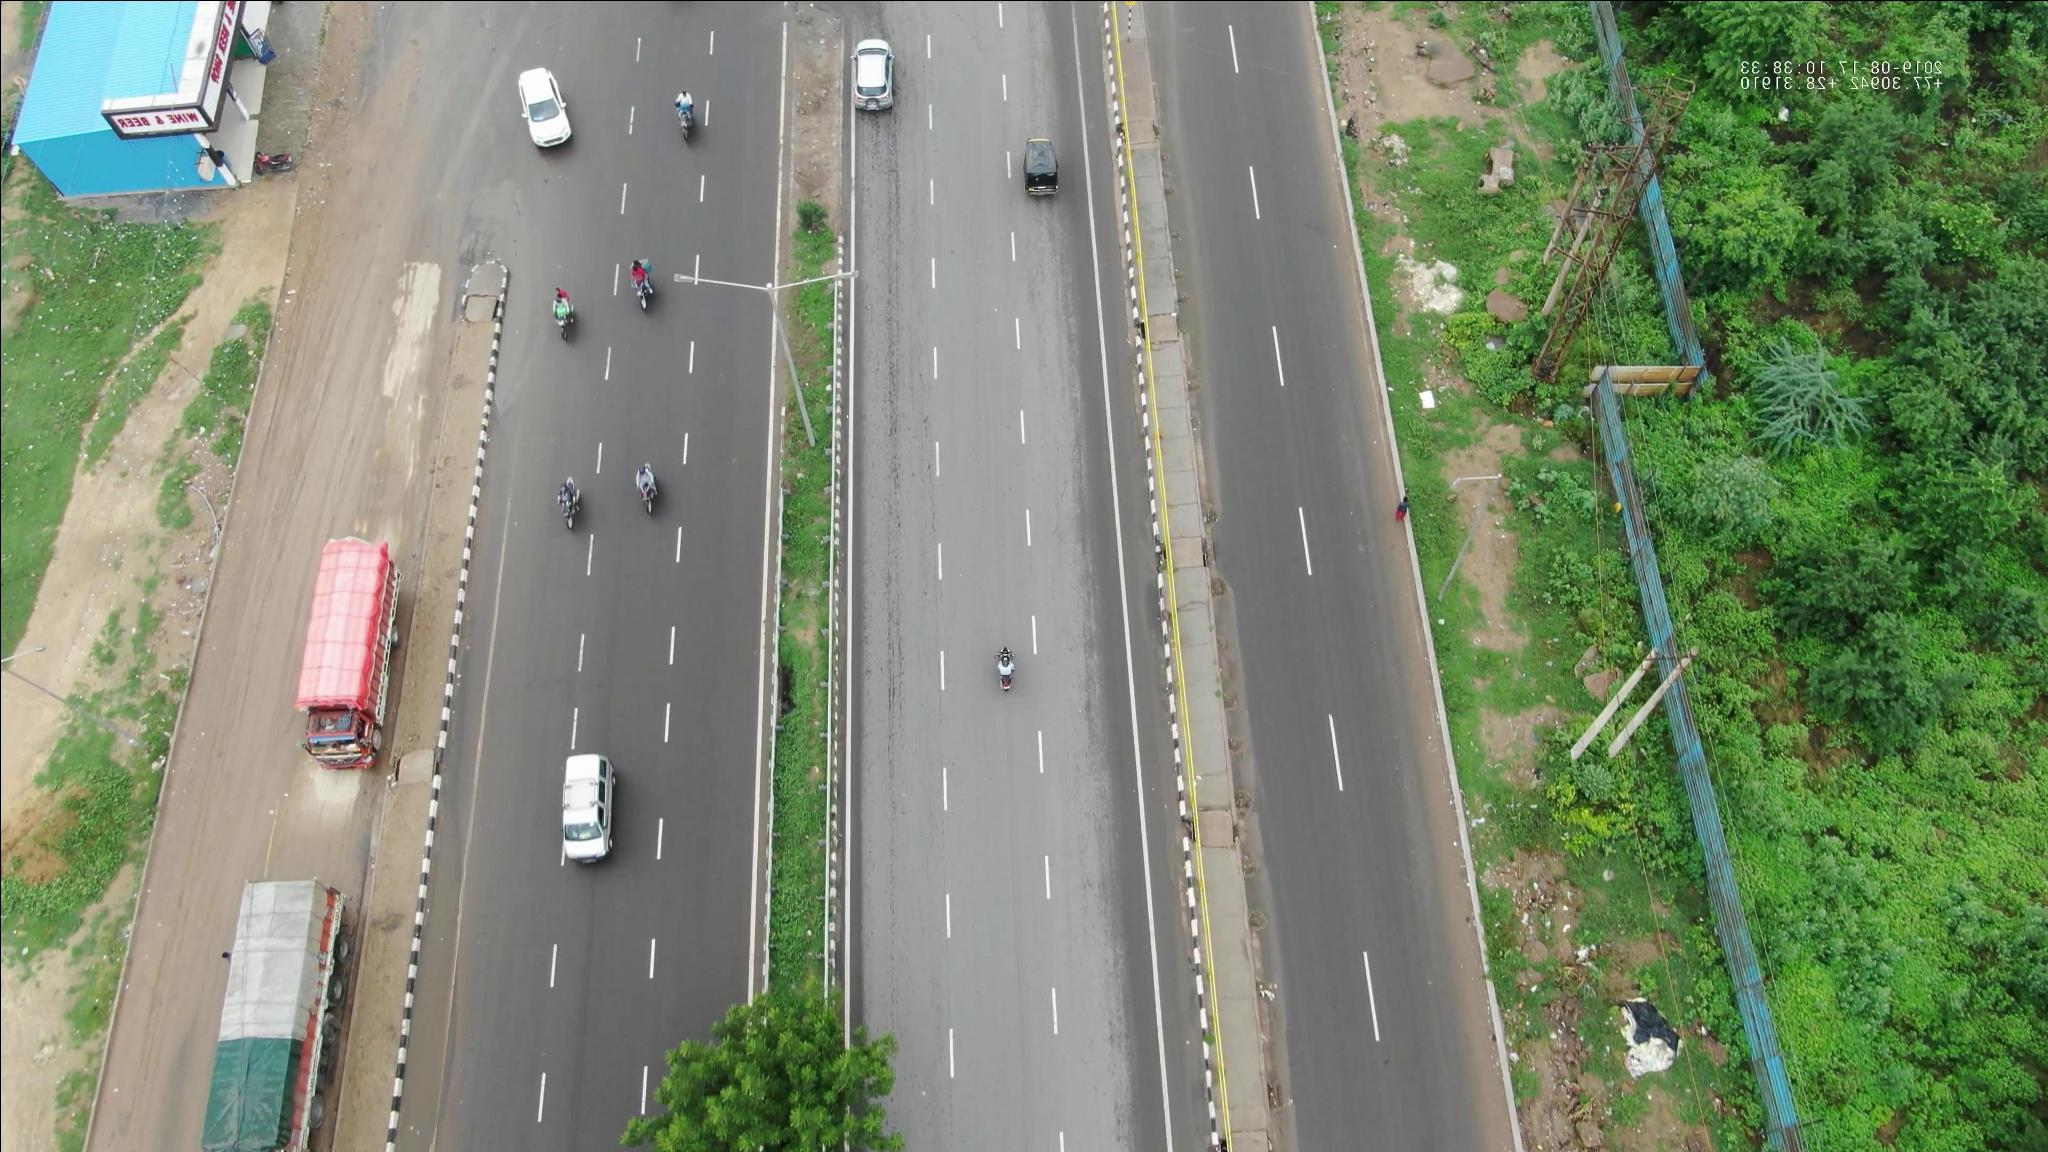Muddy_road: (288, 30, 418, 271), (238, 304, 356, 563), (181, 596, 283, 814)
Potholes: (446, 162, 530, 250)
Ravelling: (869, 233, 919, 425), (875, 454, 911, 679)
